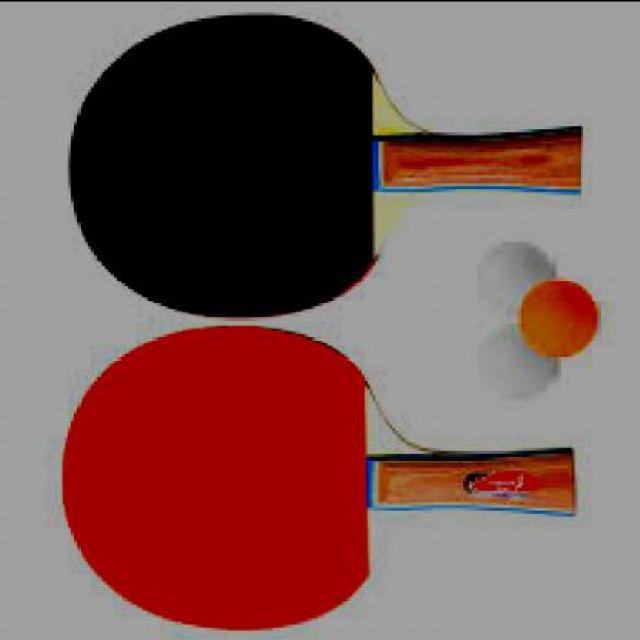table_tennis_racket: (58, 319, 439, 633), (66, 9, 414, 320)
